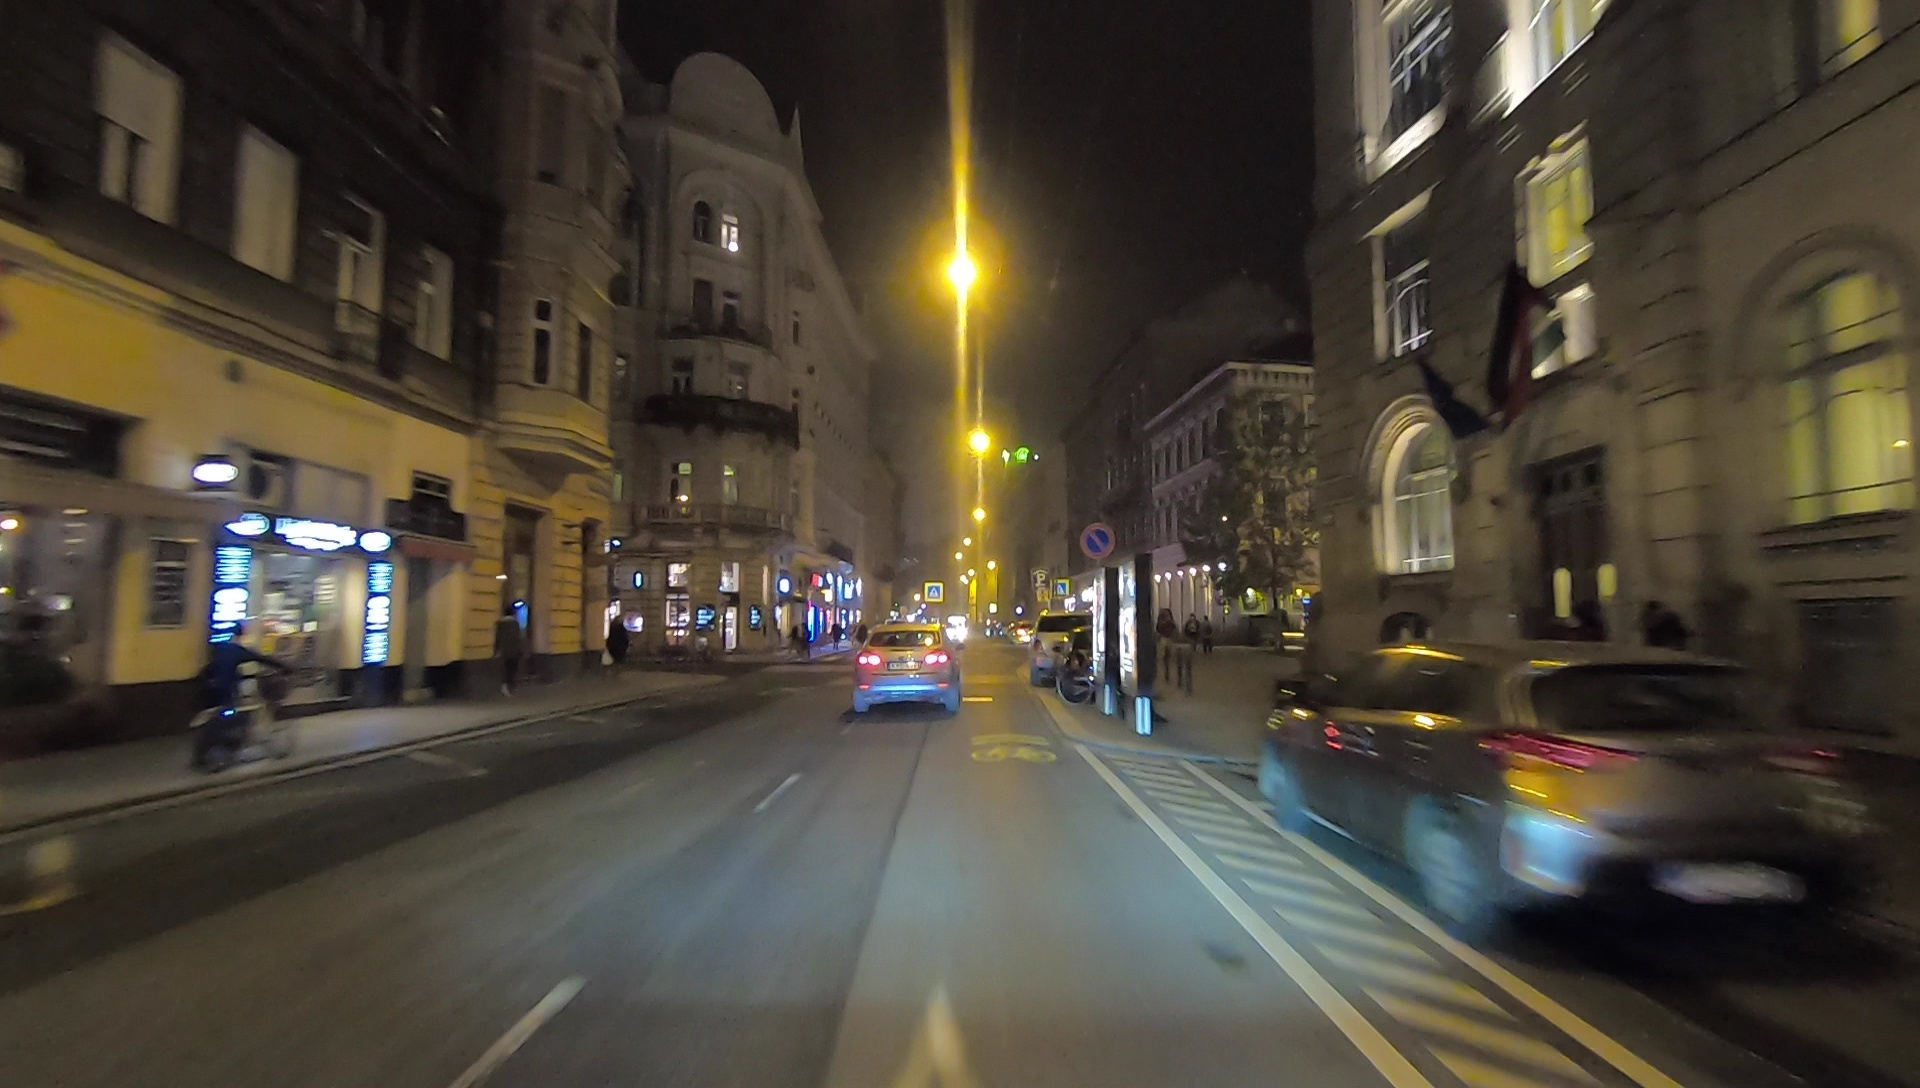person: (1643, 600, 1693, 726), (201, 626, 241, 755), (493, 602, 519, 697), (602, 613, 626, 674), (1185, 613, 1199, 650), (800, 623, 811, 662), (831, 619, 842, 648), (1203, 616, 1211, 649)
